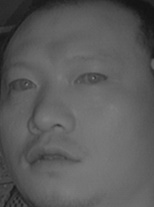eye: (73, 65, 108, 89), (6, 74, 38, 95)
mouth: (20, 138, 82, 173)
